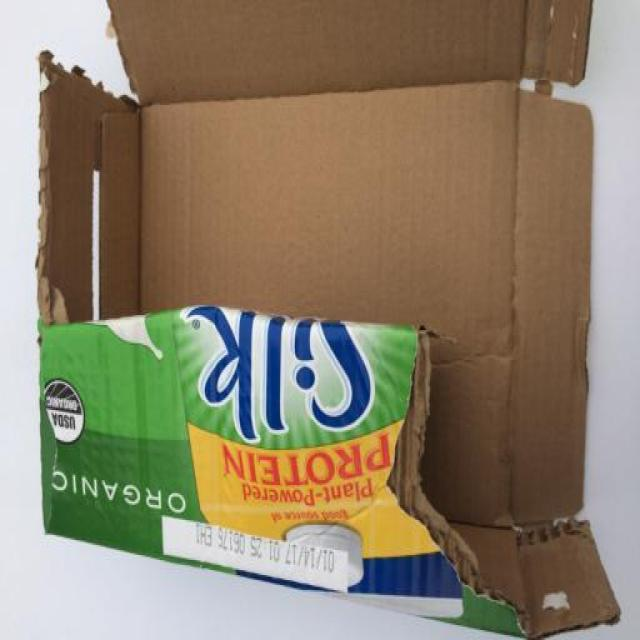cardboard: (36, 0, 622, 640)
